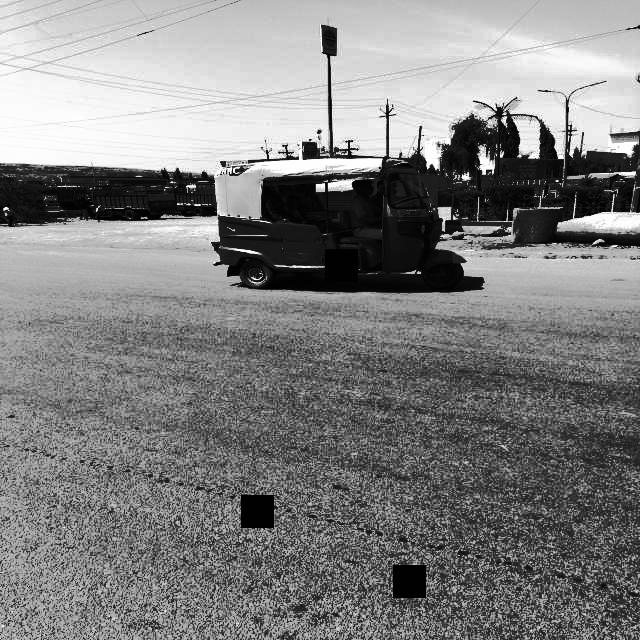Auto-Rickshaw: (210, 159, 468, 291)
